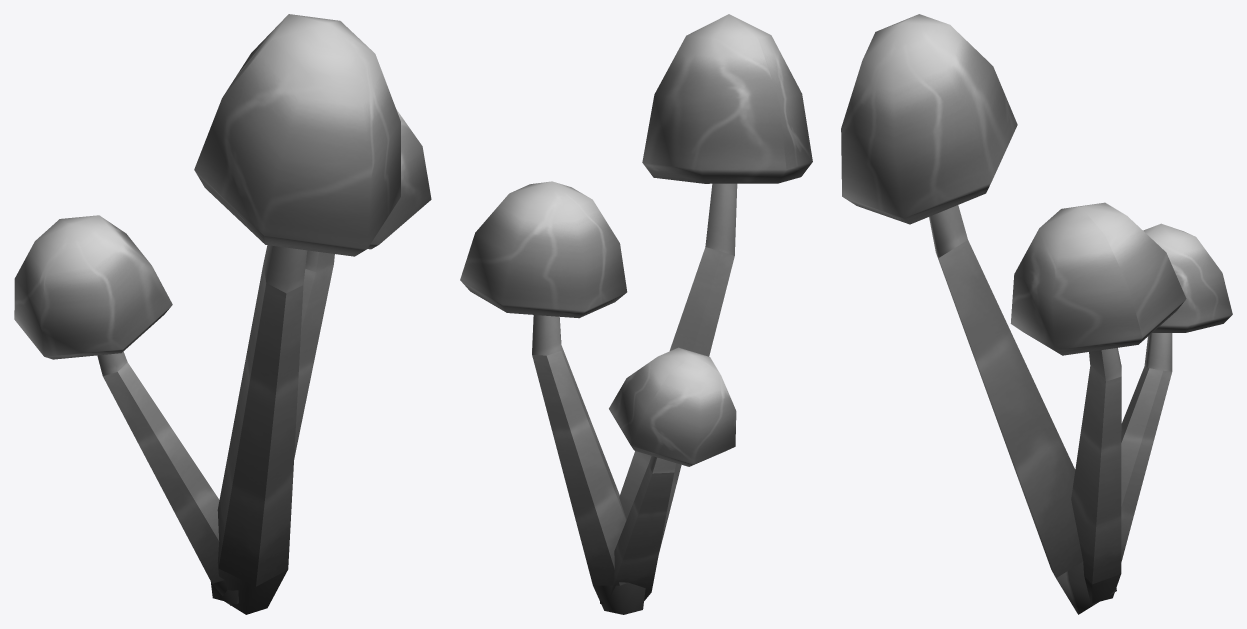
File: cave mushroom clumpB Mobile.FBX
The picture shows the model from 3 angles, left to right: view 1: azimuth 30°, elevation 25°; view 2: azimuth 150°, elevation 25°; view 3: azimuth 270°, elevation 25°; orthographic projection. The views are drawn at different scales.
Parts seen in each view (by area): view 1: Object011; view 2: Object011; view 3: Object011.
Boxes of the visible parts, x1,y1,x2,y2 form: Object011: (14,14,431,614); Object011: (460,14,812,614); Object011: (841,14,1232,614).
Bounding box in the file's own units: 1.32 × 2.49 × 1.54.
